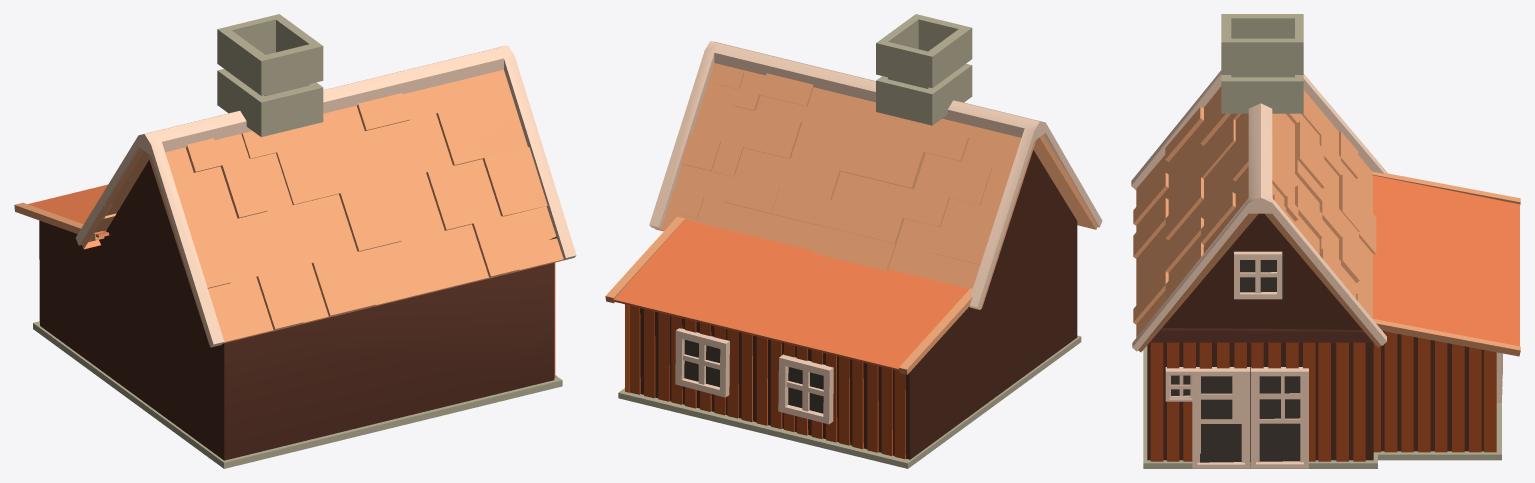
The model's file is house1.fbx.
3 views of the same model, side by side, from view 1: azimuth 30°, elevation 25°; view 2: azimuth 150°, elevation 25°; view 3: azimuth 270°, elevation 25° (orthographic). The views are drawn at different scales.
Visible parts, largest first — view 1: Object_2; view 2: Object_2; view 3: Object_2.
Boxes of the visible parts, x1,y1,x2,y2 form: Object_2: [14, 14, 576, 468]; Object_2: [605, 14, 1102, 468]; Object_2: [1131, 14, 1520, 468].
Bounding box in the file's own units: 625 × 588 × 618.
Materials: 1 (1 with a texture image).
